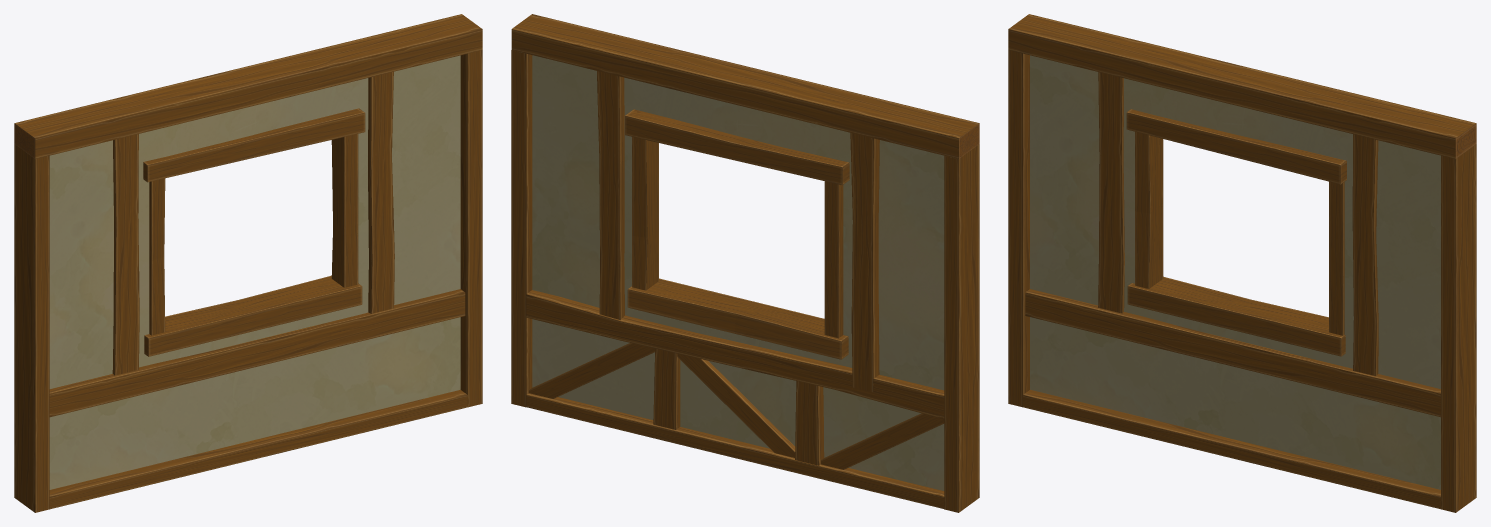
File: SM_House_Wall_5x4_Window_B_03.fbx
The picture shows the model from 3 angles, left to right: view 1: azimuth 30°, elevation 25°; view 2: azimuth 150°, elevation 25°; view 3: azimuth 330°, elevation 25°; orthographic projection.
Visible parts, largest first — view 1: SM_House_Wall_5x4_Window_B_03; view 2: SM_House_Wall_5x4_Window_B_03; view 3: SM_House_Wall_5x4_Window_B_03.
Part boxes in pixels (x1,y1,x2,y2): SM_House_Wall_5x4_Window_B_03: [14, 14, 482, 512]; SM_House_Wall_5x4_Window_B_03: [511, 14, 979, 512]; SM_House_Wall_5x4_Window_B_03: [1008, 14, 1476, 512].
Bounding box in the file's own units: 5 × 4 × 0.4555.
